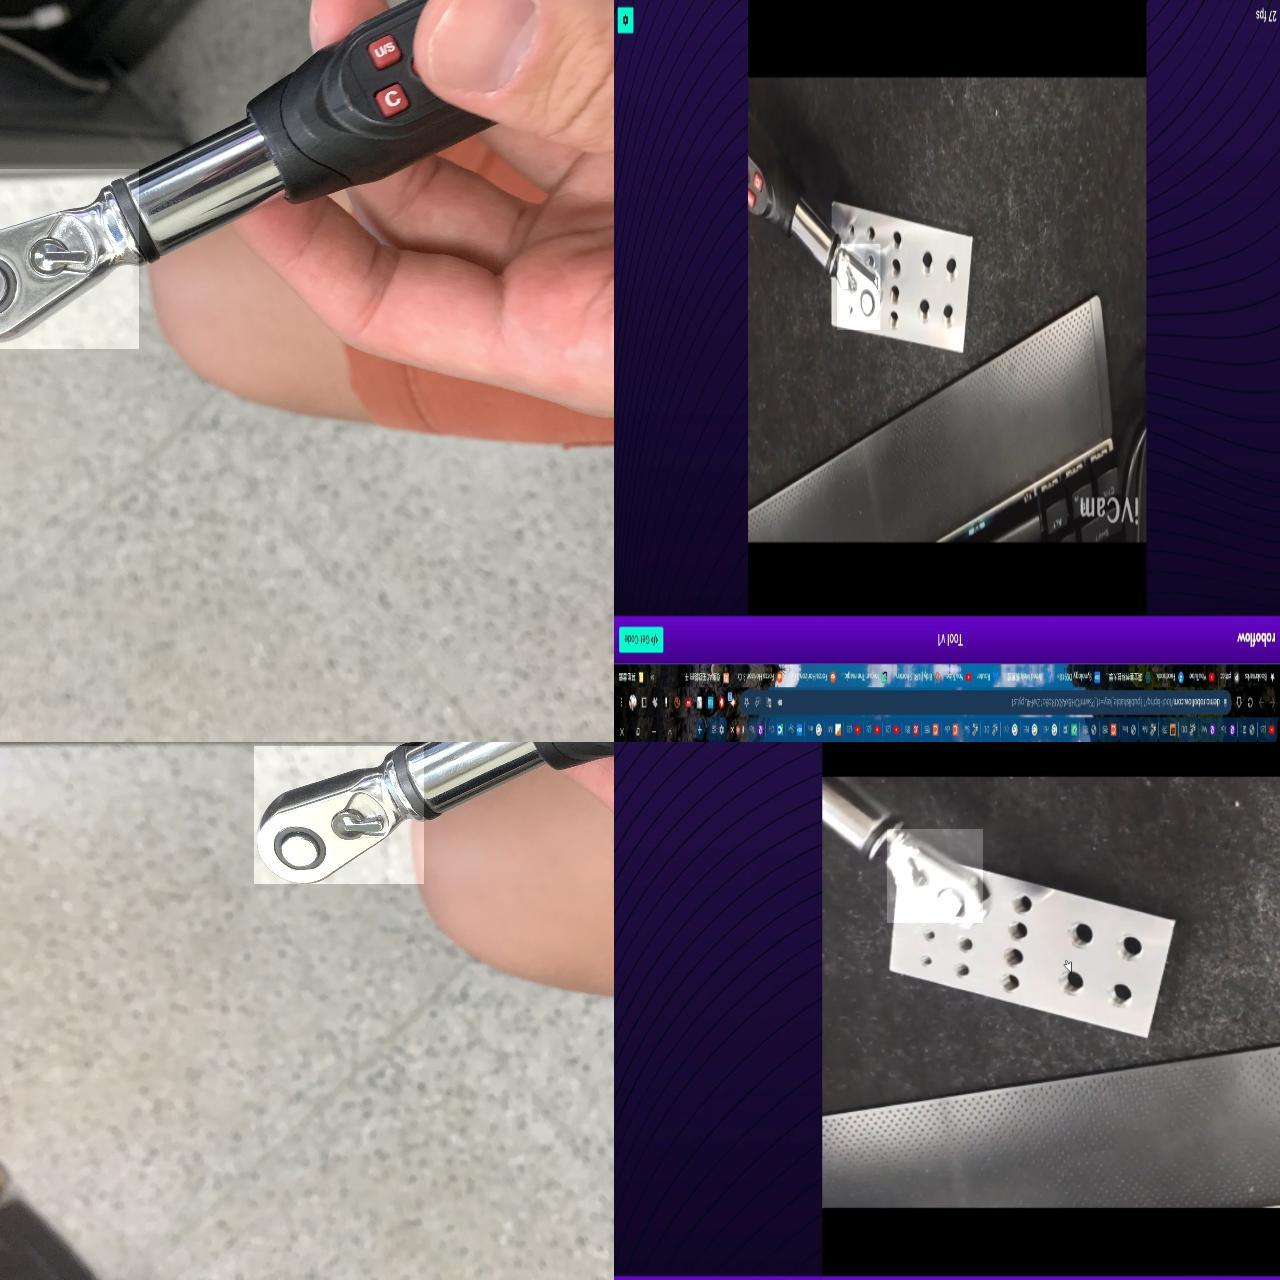Tool: (0, 169, 139, 349), (254, 745, 424, 884), (887, 829, 983, 922), (837, 244, 880, 331)
hole: (1122, 928, 1157, 967), (1109, 982, 1143, 1019), (1063, 968, 1096, 1003), (1073, 920, 1104, 954), (913, 876, 944, 906), (954, 900, 980, 933), (1014, 892, 1043, 920), (971, 885, 998, 915), (1008, 948, 1035, 974), (1006, 980, 1032, 1005), (1012, 925, 1037, 949), (934, 304, 958, 328), (960, 939, 982, 962), (859, 225, 881, 248), (881, 230, 904, 252), (956, 966, 979, 987), (911, 250, 932, 272), (908, 298, 930, 319), (938, 257, 959, 278), (860, 251, 880, 271), (925, 959, 945, 978), (927, 934, 947, 953), (880, 309, 899, 328), (884, 257, 901, 275), (883, 281, 900, 299)
